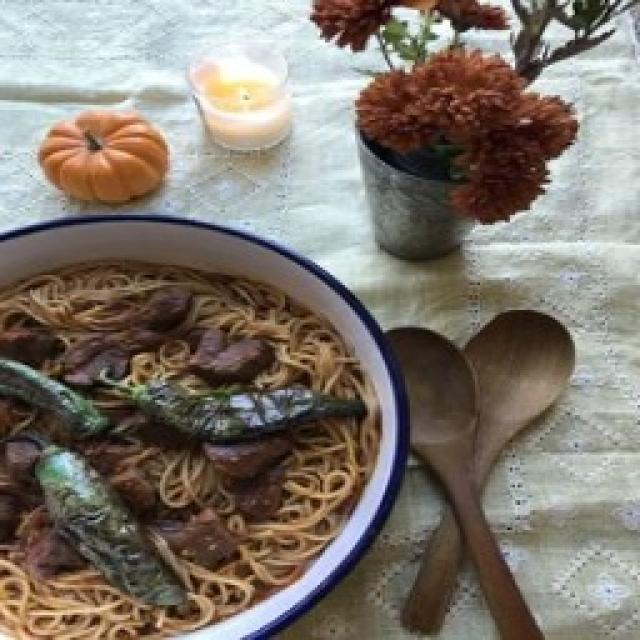Pasta: (0, 218, 408, 640)
